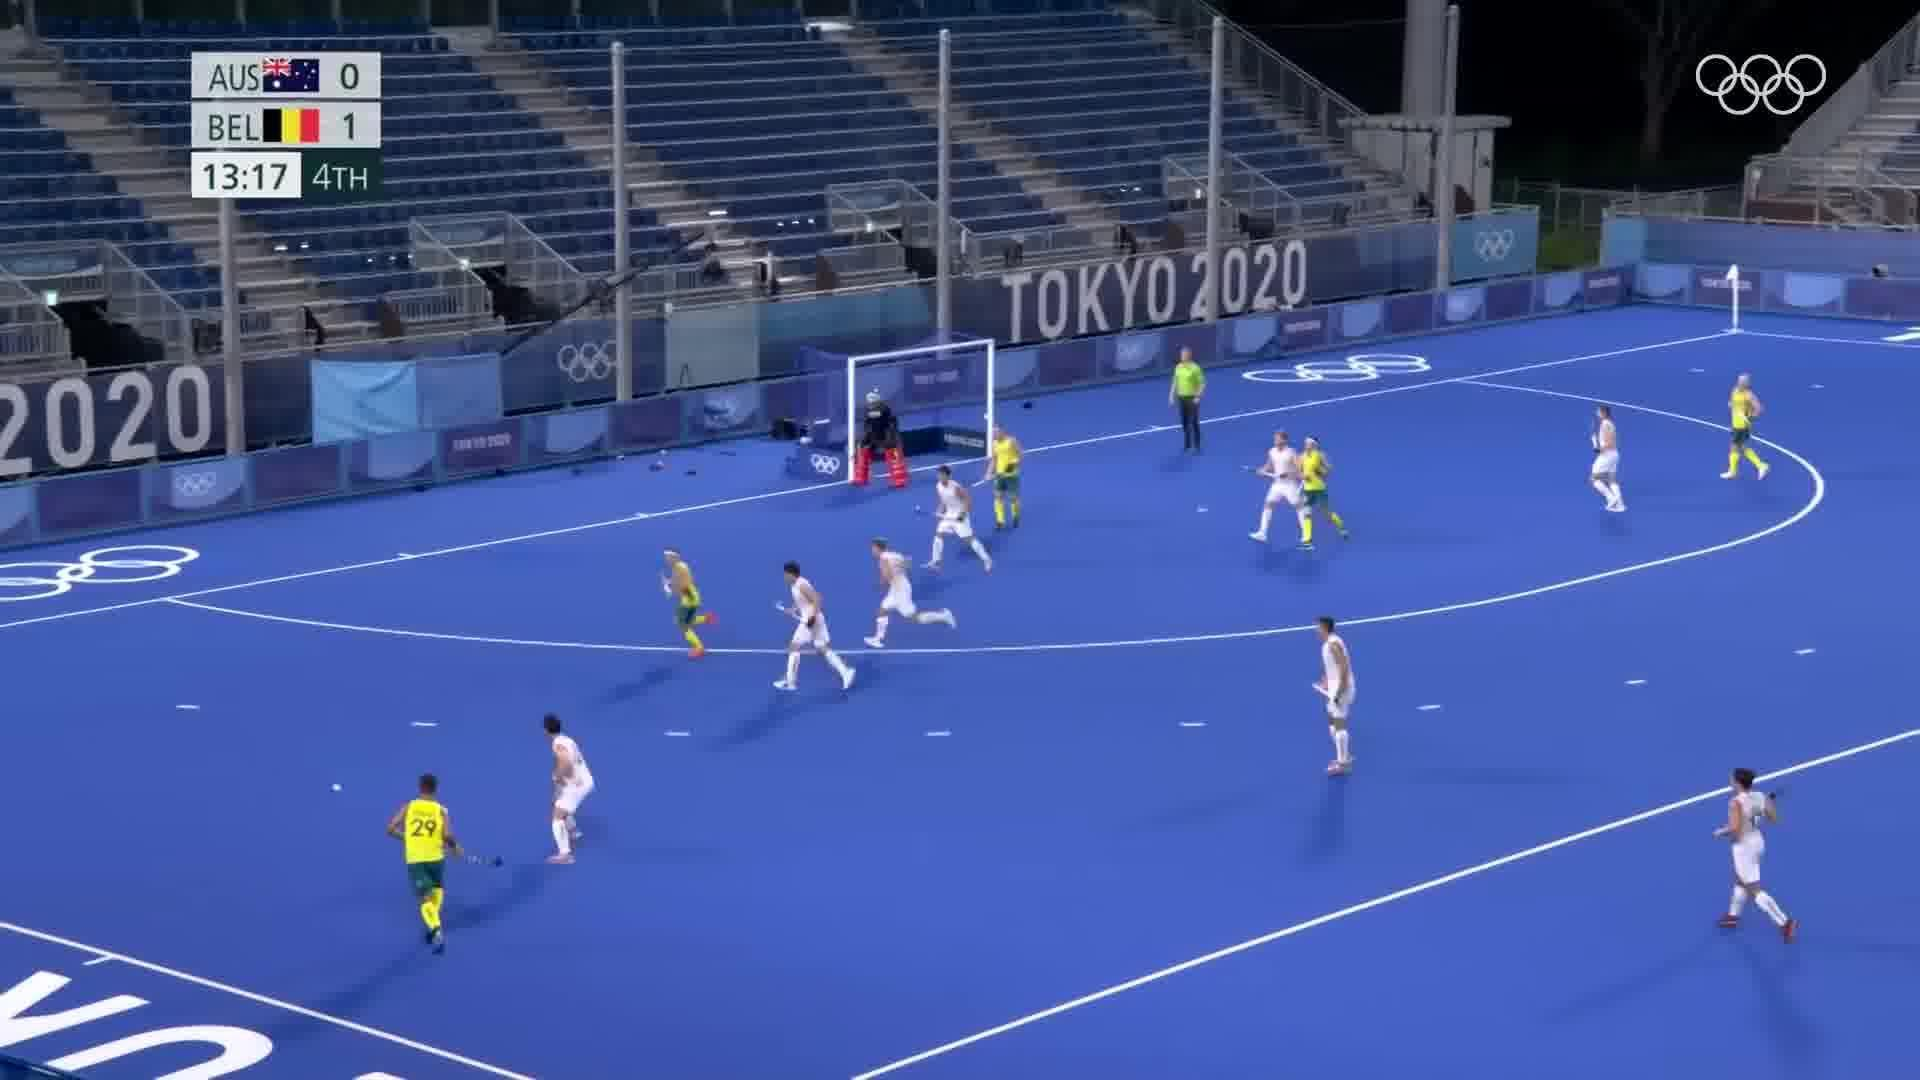ball: (324, 778, 348, 798)
